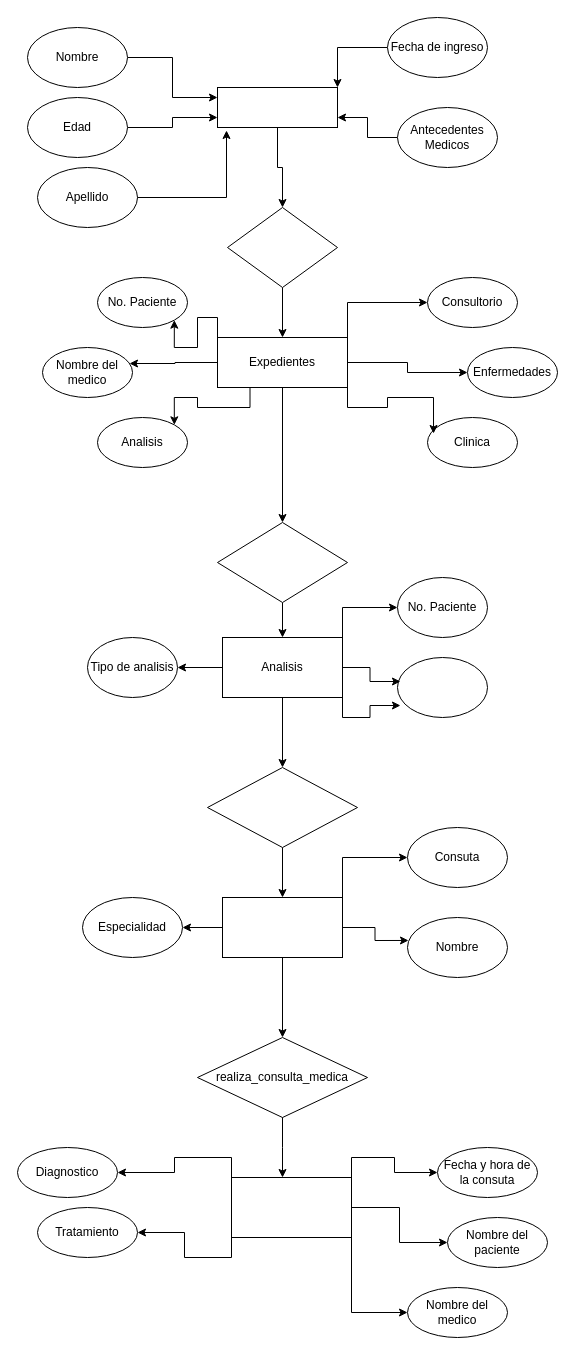
The diagram is 575 pixels wide and 1355 high, and some of its shapes have lost their labels. The box of each missing label's shape, as (x1, y1, x2, y2) in pixels:
atendido_por_medico: (206, 766, 358, 848)
Consulta: (230, 1176, 352, 1238)
contiene_analisis: (216, 522, 348, 602)
Medico: (222, 896, 342, 958)
PACIENTE: (216, 86, 338, 128)
Resultado: (396, 656, 488, 718)
tiene_expediente: (226, 206, 338, 288)
